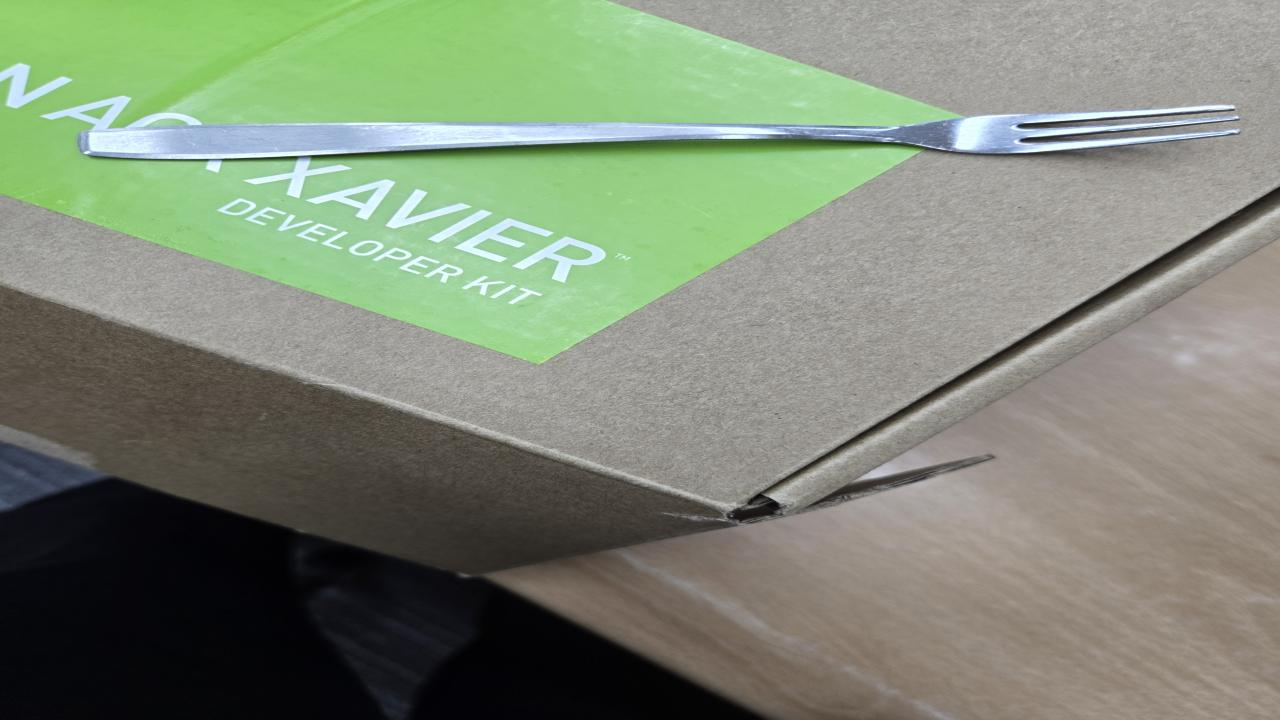fork: (83, 105, 1243, 163)
